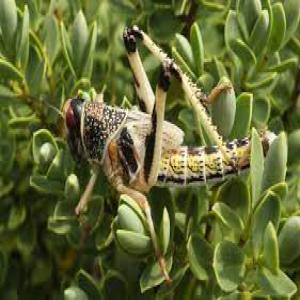locust: (45, 21, 272, 209)
